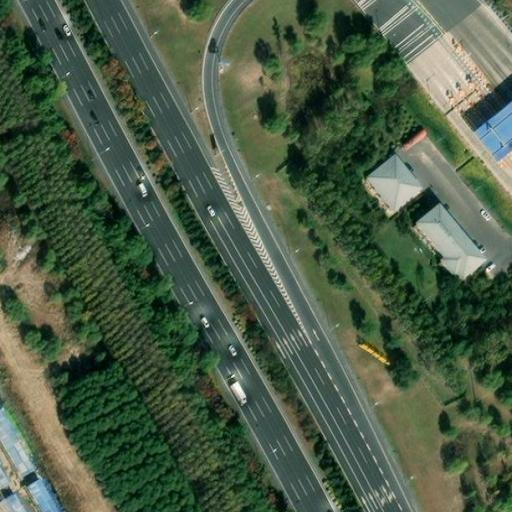building: (417, 204, 486, 283), (364, 154, 424, 215), (0, 401, 36, 473), (474, 100, 512, 159), (26, 480, 56, 512), (397, 121, 429, 150), (0, 492, 24, 512)
